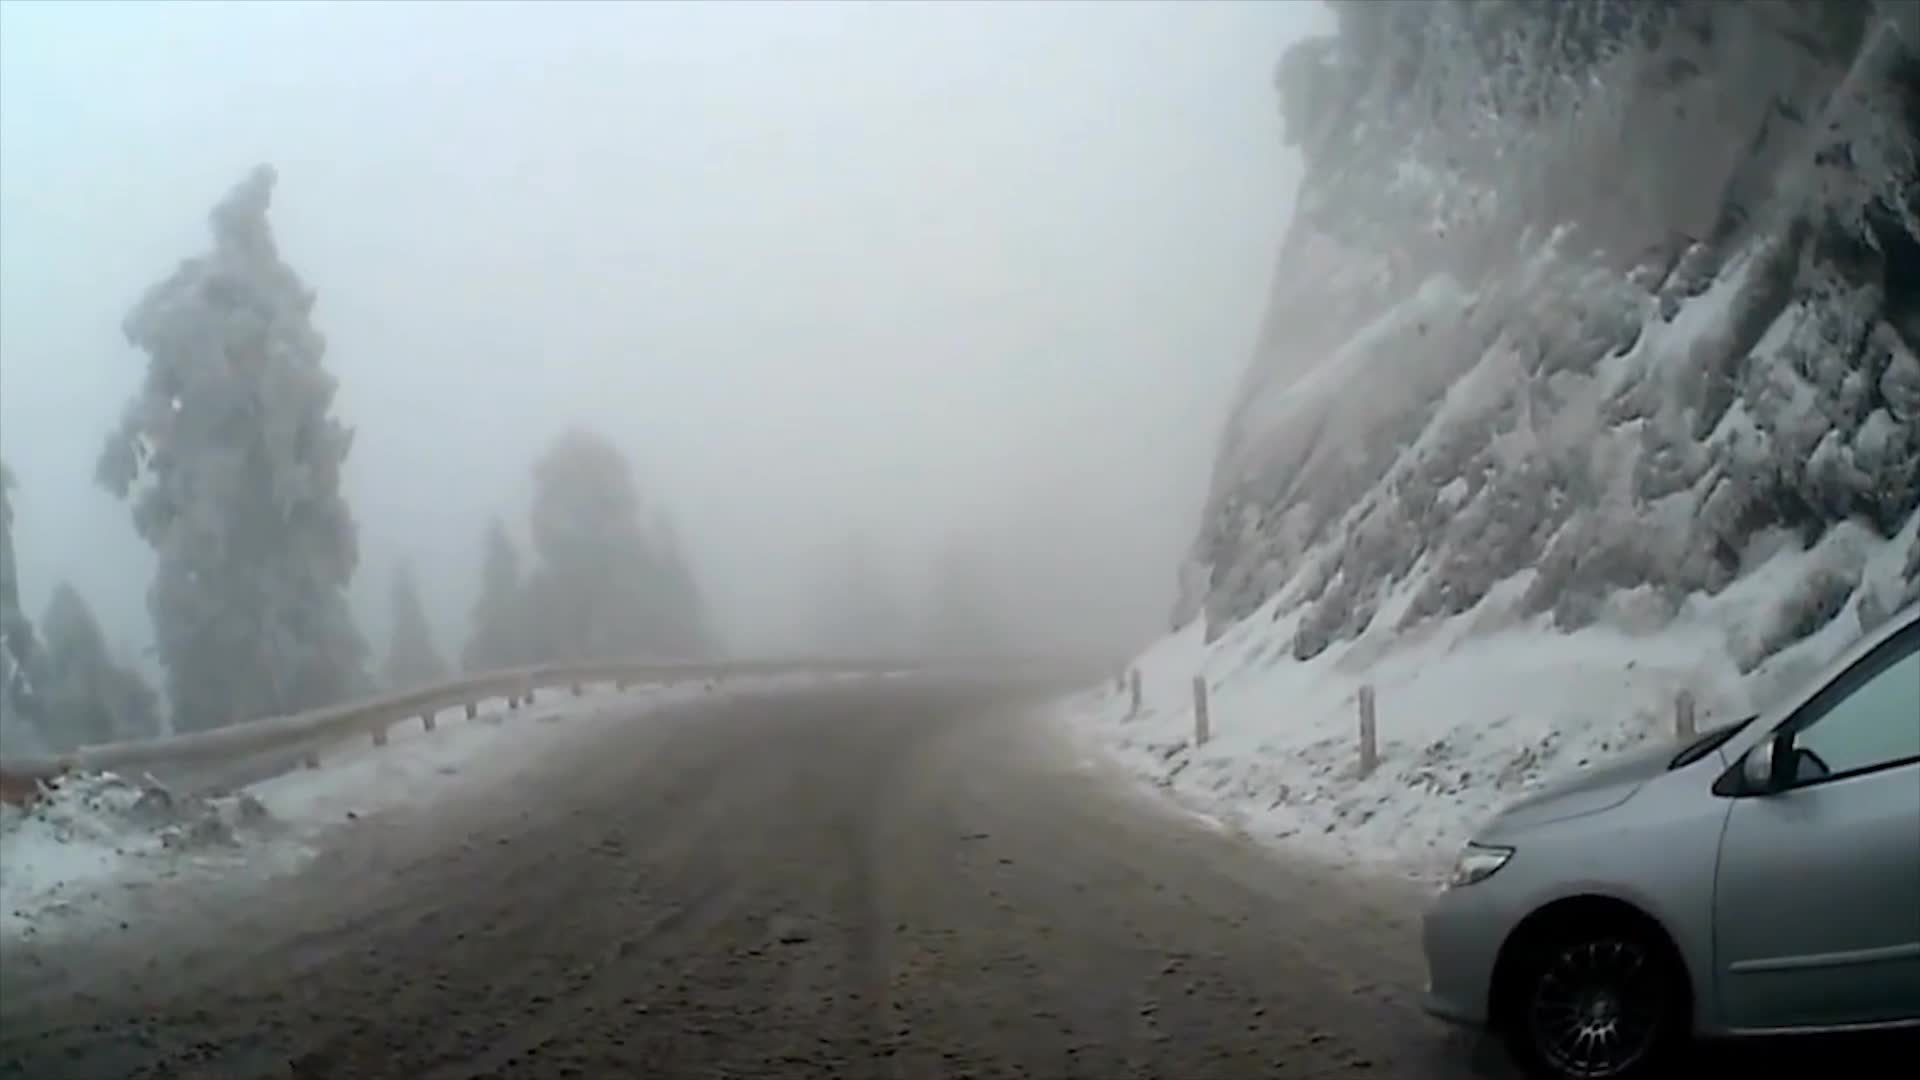vehicle: (1419, 600, 1920, 1080)
